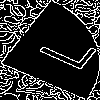L: (25, 25, 98, 73)
